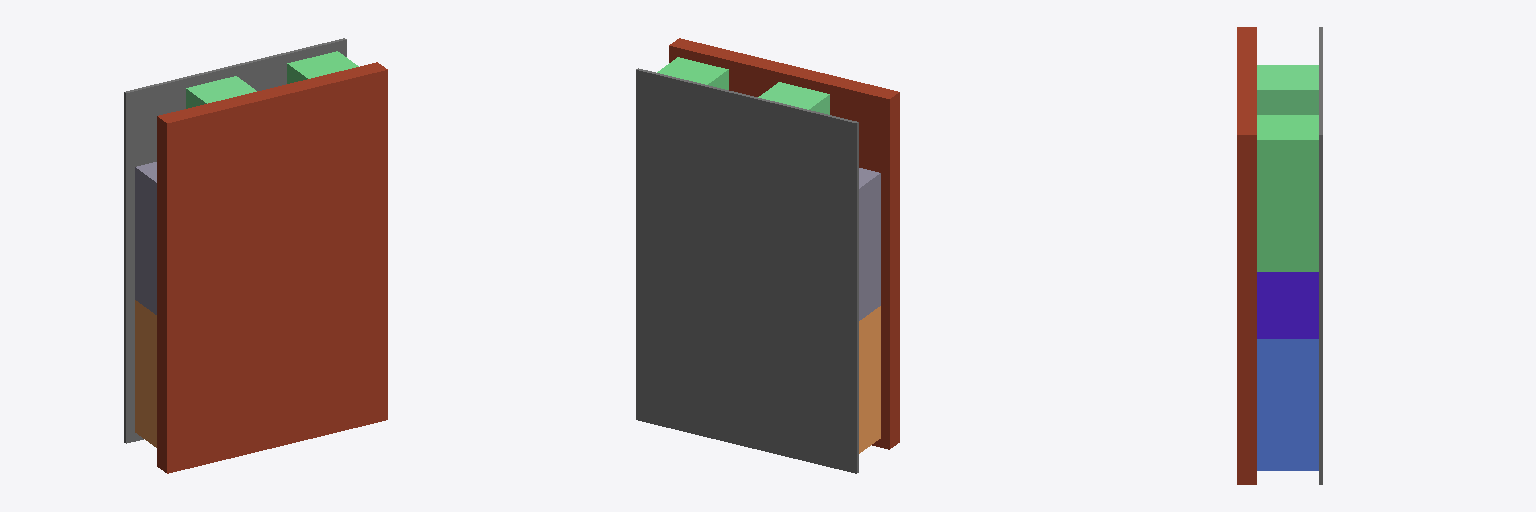
The picture shows the model from 3 angles: view 1: azimuth 30°, elevation 25°; view 2: azimuth 150°, elevation 25°; view 3: azimuth 270°, elevation 25°; orthographic projection.
Visible parts, largest first — view 1: furniture_20_roof, furniture_19_foundation, Garage, Tv_lounge, Washroom; view 2: furniture_19_foundation, furniture_20_roof, Garage, Tv_lounge, Washroom; view 3: Washroom, furniture_20_roof, Kitchen, Corridor, furniture_19_foundation.
Boxes of the visible parts, <box> form: furniture_20_roof: <box>157,62,387,473</box>; furniture_19_foundation: <box>124,38,346,443</box>; Garage: <box>135,162,156,314</box>; Tv_lounge: <box>135,300,156,447</box>; Washroom: <box>186,51,358,108</box>; furniture_19_foundation: <box>636,68,858,473</box>; furniture_20_roof: <box>669,38,899,449</box>; Garage: <box>859,168,880,320</box>; Tv_lounge: <box>859,306,880,453</box>; Washroom: <box>657,57,829,114</box>; Washroom: <box>1257,65,1318,271</box>; furniture_20_roof: <box>1237,27,1256,484</box>; Kitchen: <box>1257,339,1318,470</box>; Corridor: <box>1257,272,1318,338</box>; furniture_19_foundation: <box>1319,27,1322,484</box>.
Size of the model in its own units: 12.38 by 18.78 by 4.2.